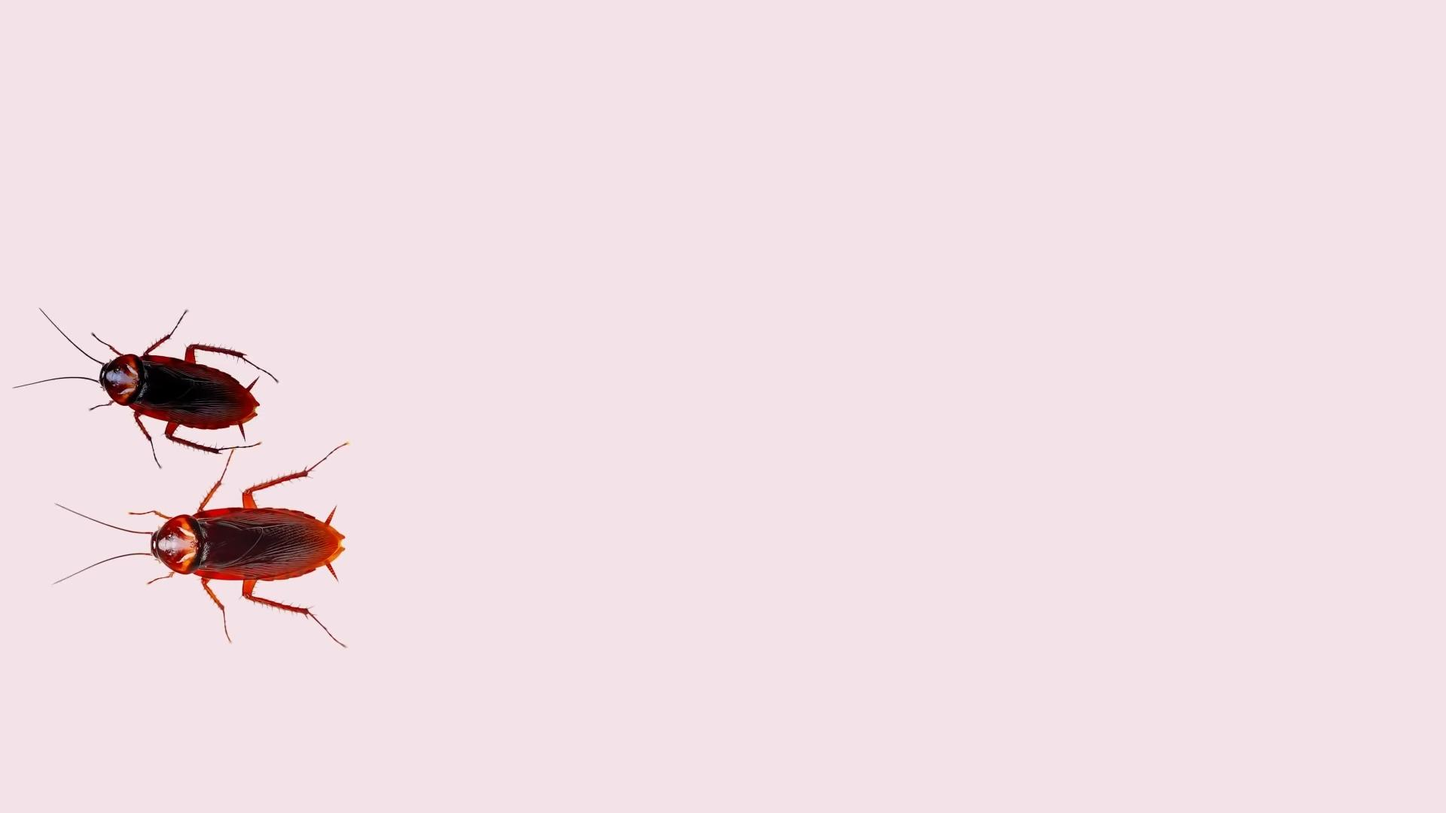cockroach: (57, 503, 378, 649), (19, 315, 277, 455)
